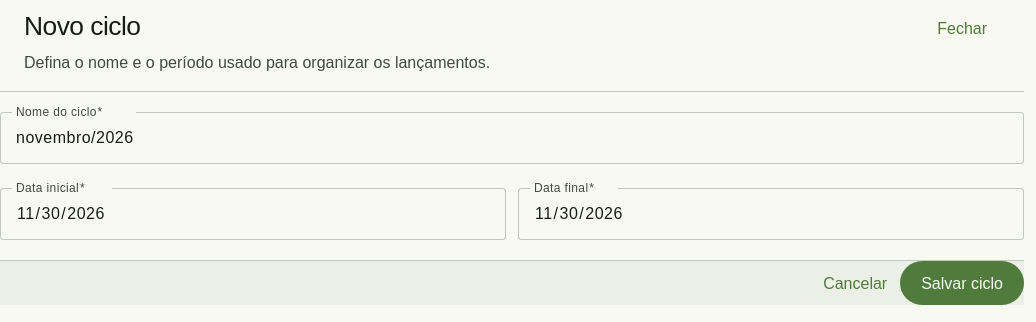
it: CycleFormComponent › renders and associates the date range error after submitting equal dates
Click the button "Salvar ciclo" at (962, 283), box 900,261 -> 1024,305
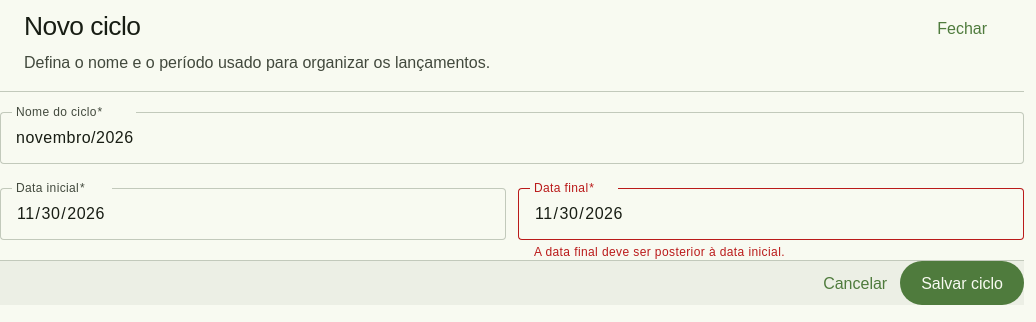
Now the text "A data final deve ser posterior à data inicial." is shown, box 534,245 -> 785,259
